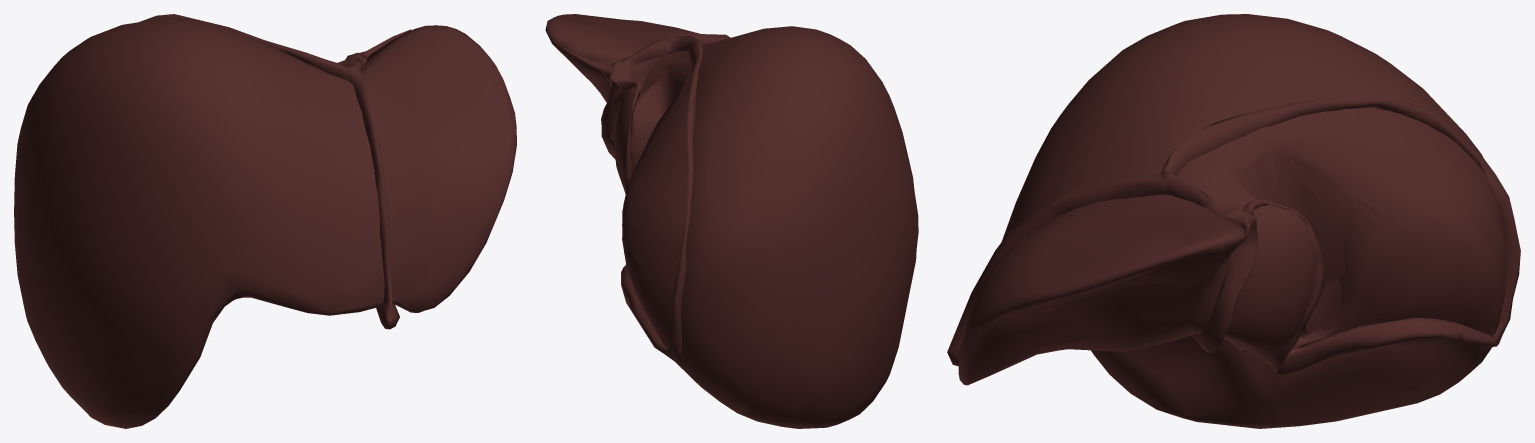
Rendered from liver.glb.
3 views of the same model, side by side, from view 1: azimuth 30°, elevation 25°; view 2: azimuth 150°, elevation 25°; view 3: azimuth 270°, elevation 25° (orthographic). The views are drawn at different scales.
Parts seen in each view (by area): view 1: VH_M_bare_area_of_liver; view 2: VH_M_bare_area_of_liver; view 3: VH_M_bare_area_of_liver.
Part boxes in pixels (bbox=[...]): VH_M_bare_area_of_liver: bbox=[14, 14, 516, 428]; VH_M_bare_area_of_liver: bbox=[545, 14, 918, 428]; VH_M_bare_area_of_liver: bbox=[947, 14, 1520, 428].
Size of the model in its own units: 0.1913 by 0.1744 by 0.2018.
